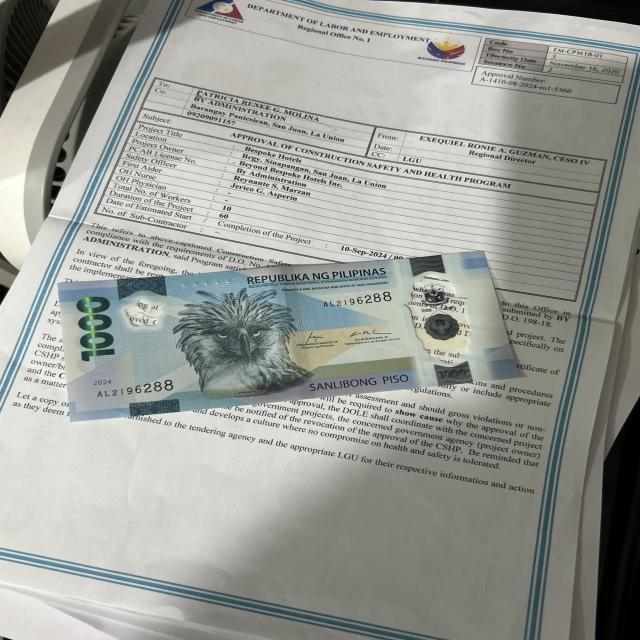clear_window: (400, 270, 475, 367)
eagle: (175, 292, 301, 394)
sampaguita: (127, 297, 169, 333)
serial_number: (313, 286, 399, 316), (90, 376, 183, 400)
